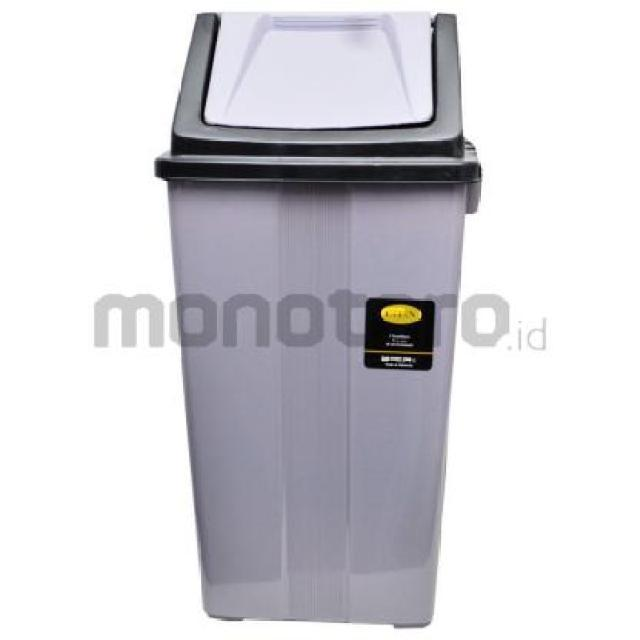garbage container: (147, 5, 498, 640)
